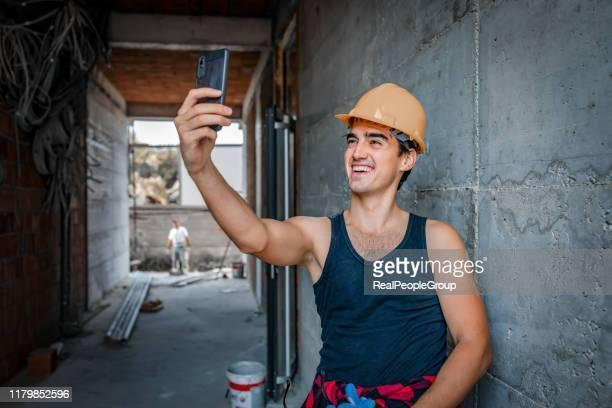helmet: (335, 82, 427, 155)
